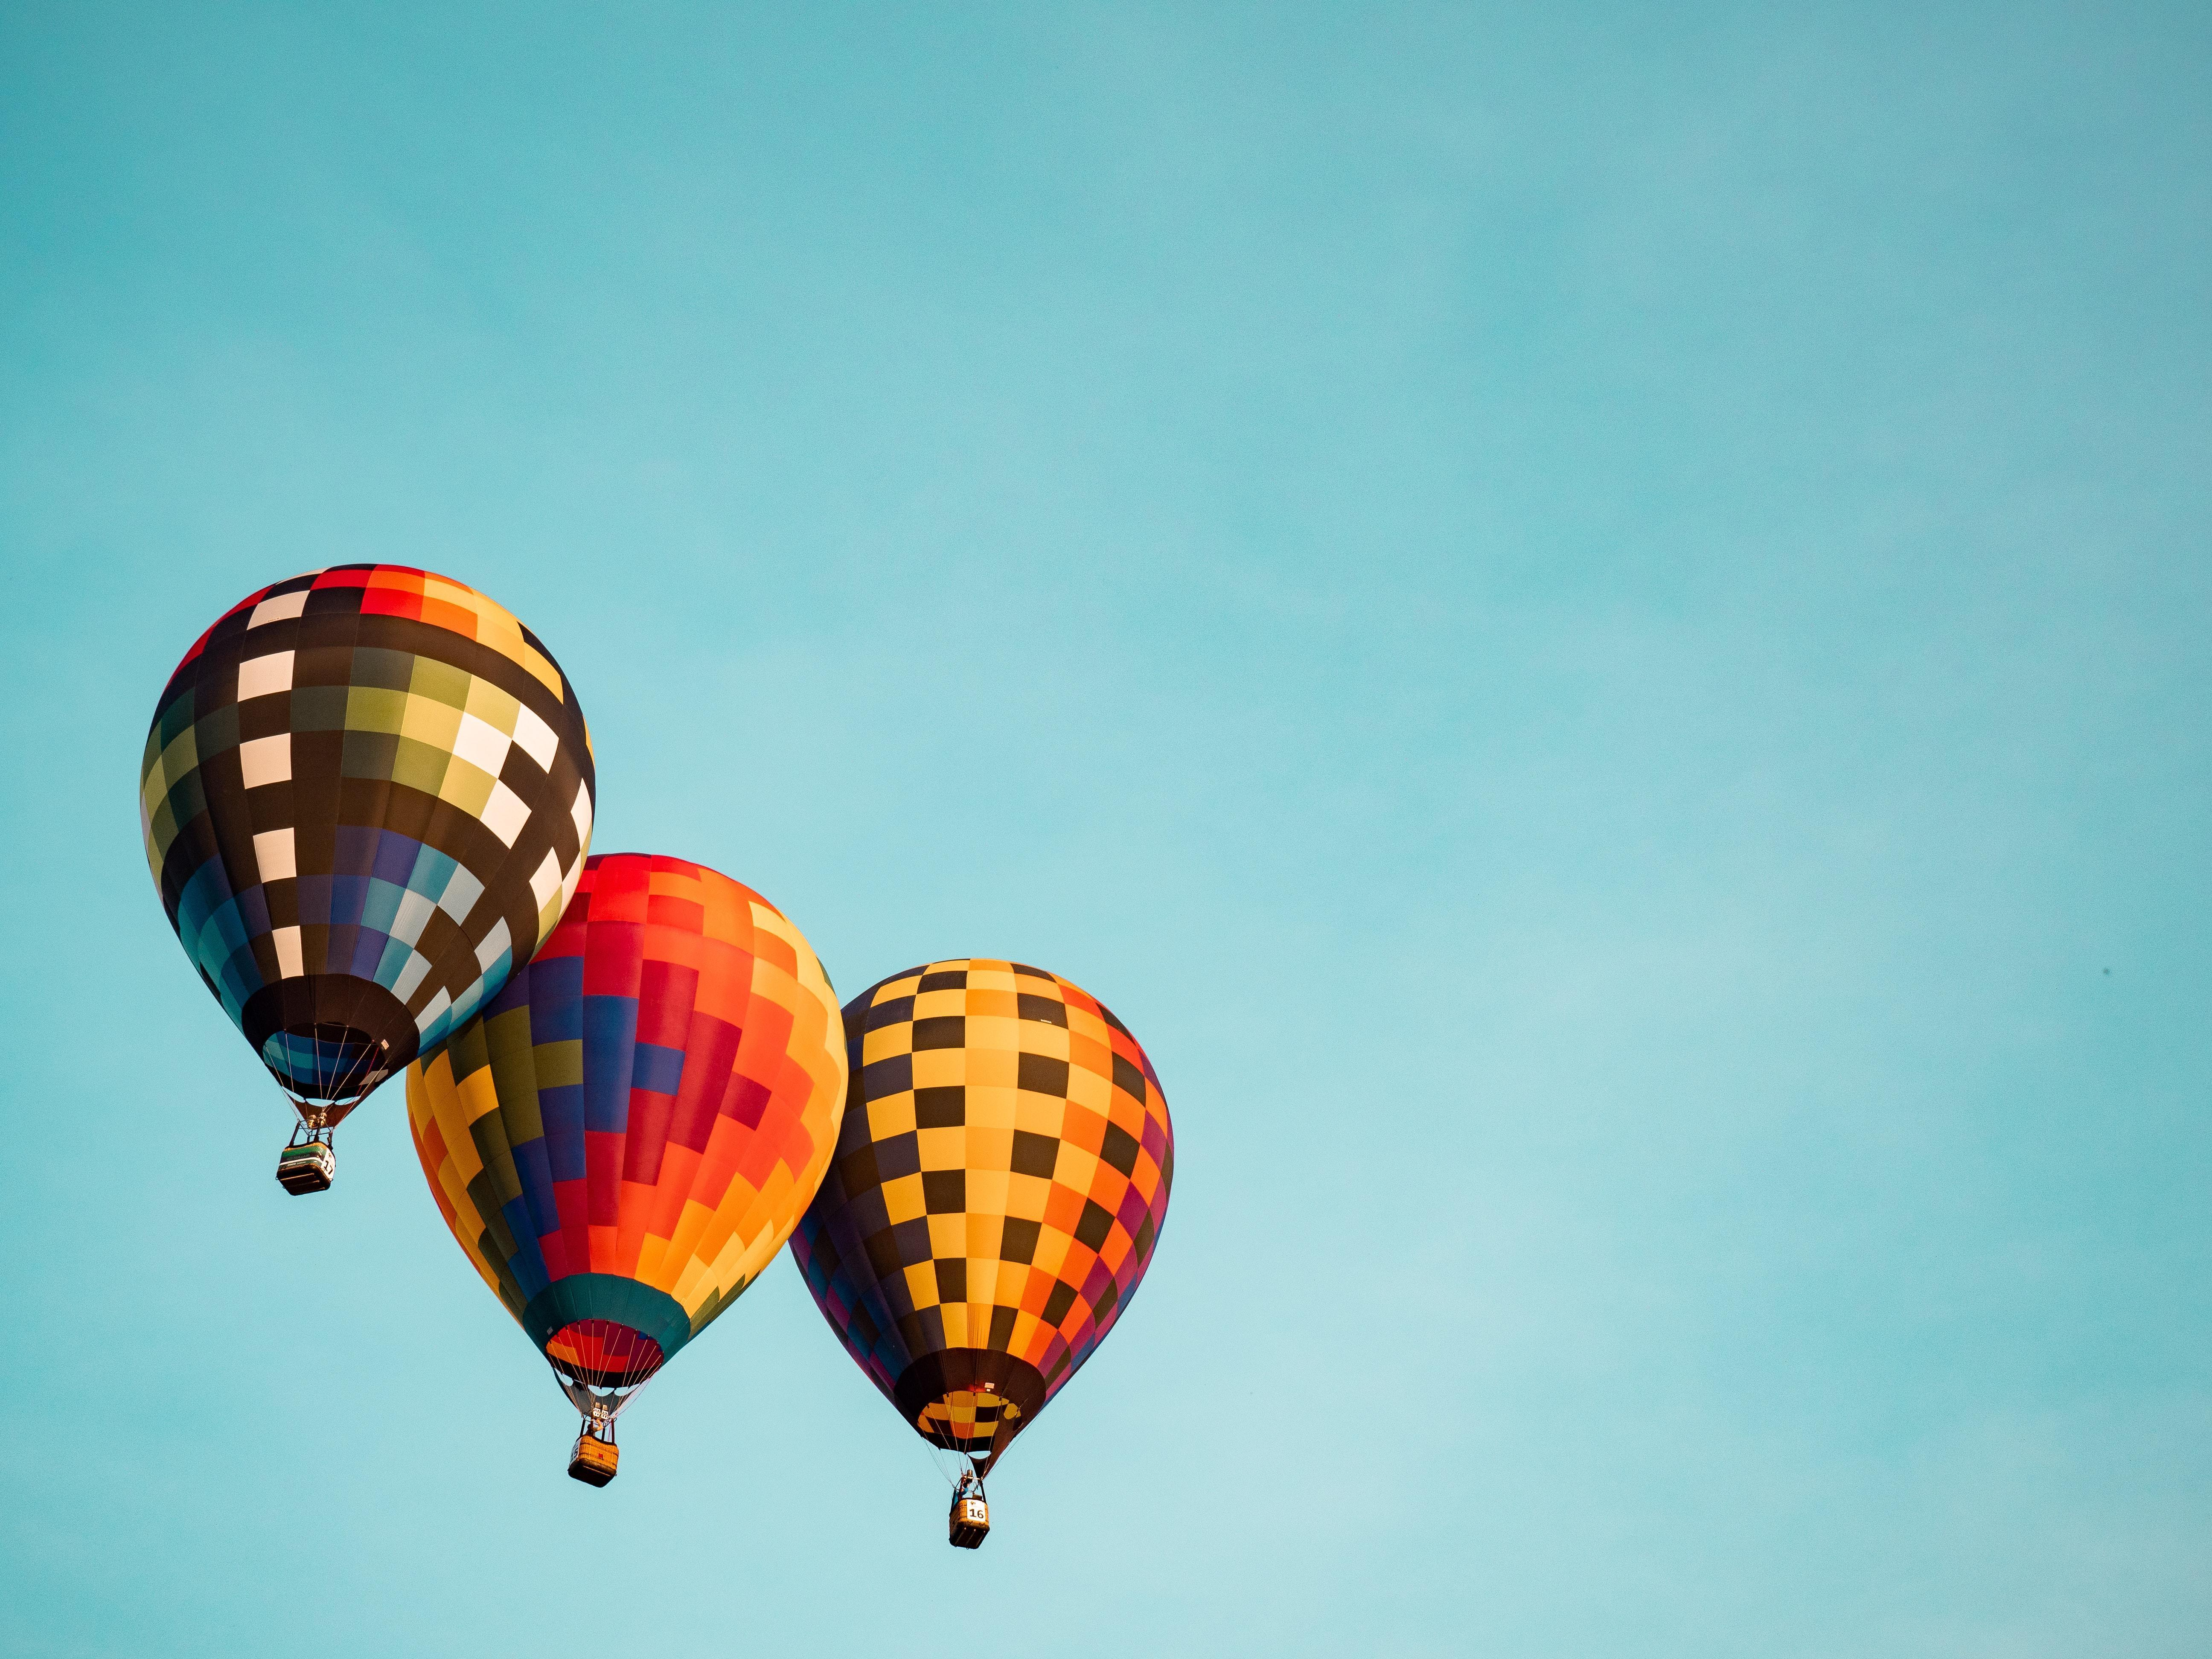hot air ballon: (138, 561, 596, 1202), (406, 852, 850, 1490), (791, 957, 1172, 1556)
